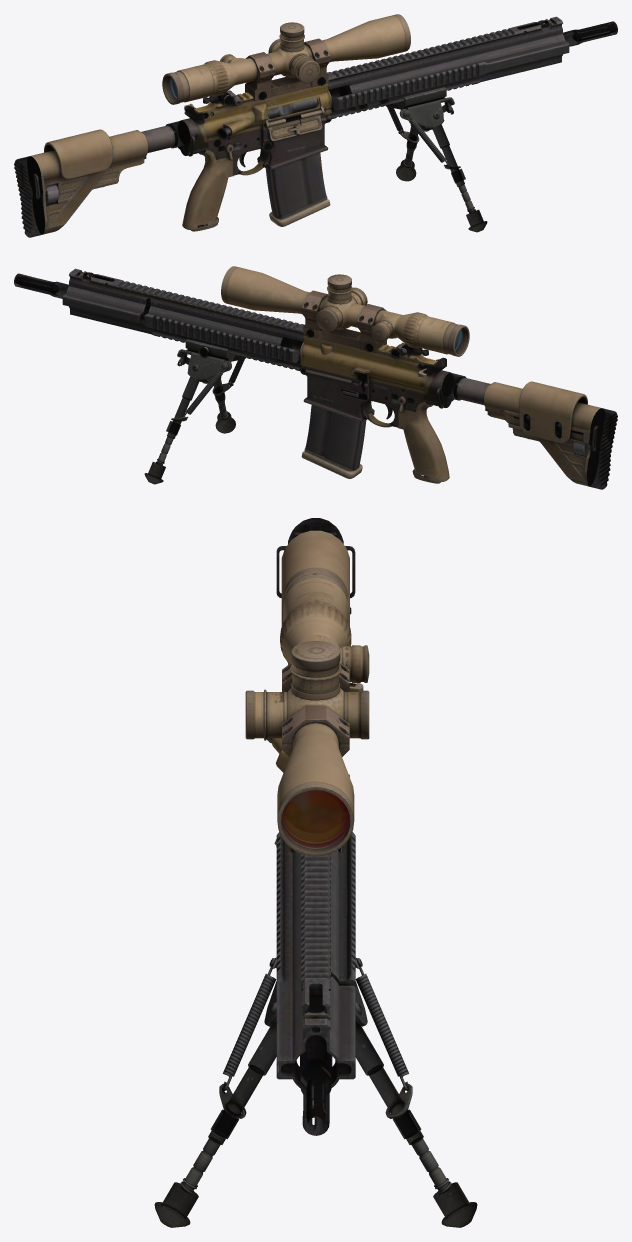
The model's file is hk-g28-sniper.glb.
3 renders of one model, top to bottom at view 1: azimuth 30°, elevation 25°; view 2: azimuth 150°, elevation 25°; view 3: azimuth 270°, elevation 25°, orthographic. The views are drawn at different scales.
Visible parts, largest first — view 1: Body_0, Scope_3, Bipod_4, Mag_1, Reciever_2; view 2: Body_0, Scope_3, Bipod_4, Mag_1; view 3: Body_0, Scope_3, Bipod_4, LenseF_5.
Boxes of the visible parts, x1=… form: Body_0: x1=14, y1=16, x2=617, y2=237; Scope_3: x1=162, y1=14, x2=410, y2=104; Bipod_4: x1=385, y1=87, x2=487, y2=232; Mag_1: x1=265, y1=153, x2=330, y2=226; Reciever_2: x1=267, y1=98, x2=317, y2=118; Body_0: x1=14, y1=268, x2=617, y2=489; Scope_3: x1=221, y1=266, x2=469, y2=356; Bipod_4: x1=144, y1=339, x2=246, y2=484; Mag_1: x1=301, y1=388, x2=366, y2=478; Body_0: x1=266, y1=518, x2=363, y2=1135; Scope_3: x1=245, y1=567, x2=369, y2=856; Bipod_4: x1=154, y1=957, x2=477, y2=1227; LenseF_5: x1=281, y1=790, x2=349, y2=847.
Bounding box in the file's own units: 19.45 × 6.69 × 4.55.
Materials: 7 (7 with a texture image).
